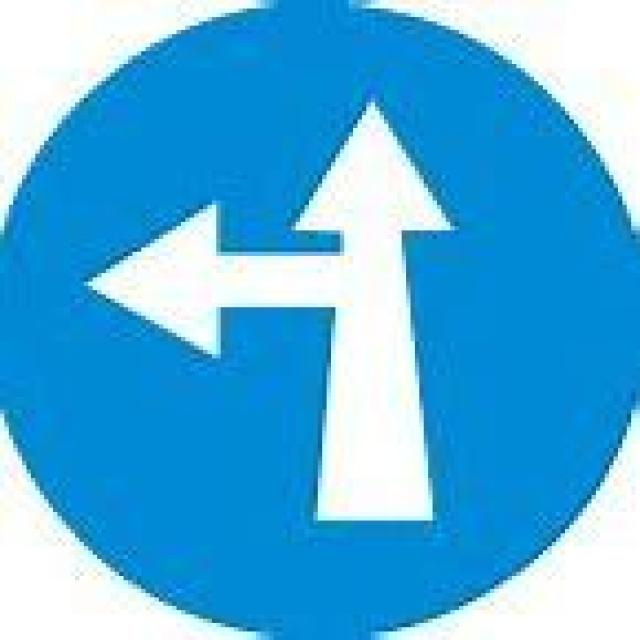compulsory_ahead: (0, 0, 636, 636)
